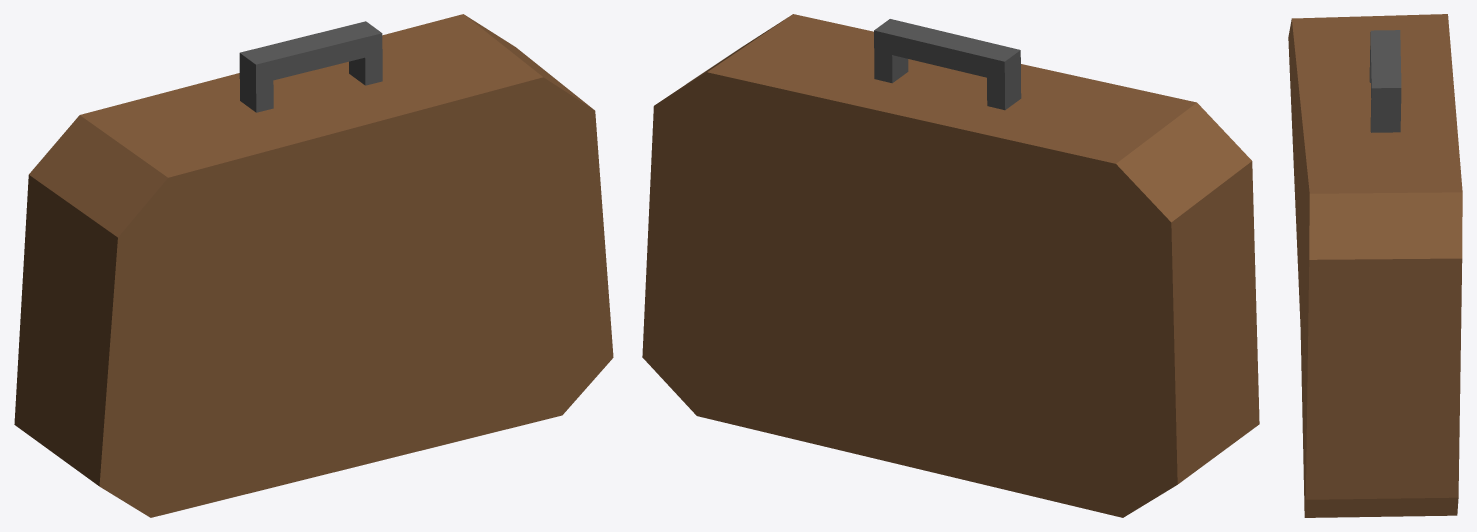
File: suitcase1.glb
3 views of the same model, side by side, from view 1: azimuth 30°, elevation 25°; view 2: azimuth 150°, elevation 25°; view 3: azimuth 270°, elevation 25° (orthographic). The views are drawn at different scales.
Visible parts, largest first — view 1: suitcase; view 2: suitcase; view 3: suitcase.
Part boxes in pixels (x1,y1,x2,y2): suitcase: [14, 14, 613, 517]; suitcase: [642, 14, 1259, 517]; suitcase: [1288, 14, 1462, 517].
Bounding box in the file's own units: 1.56 × 1.12 × 0.4869.
